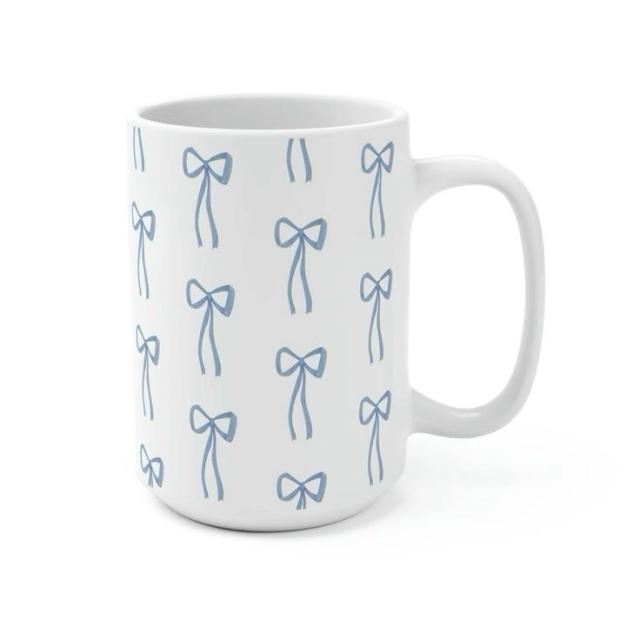glass cup: (124, 91, 546, 534)
